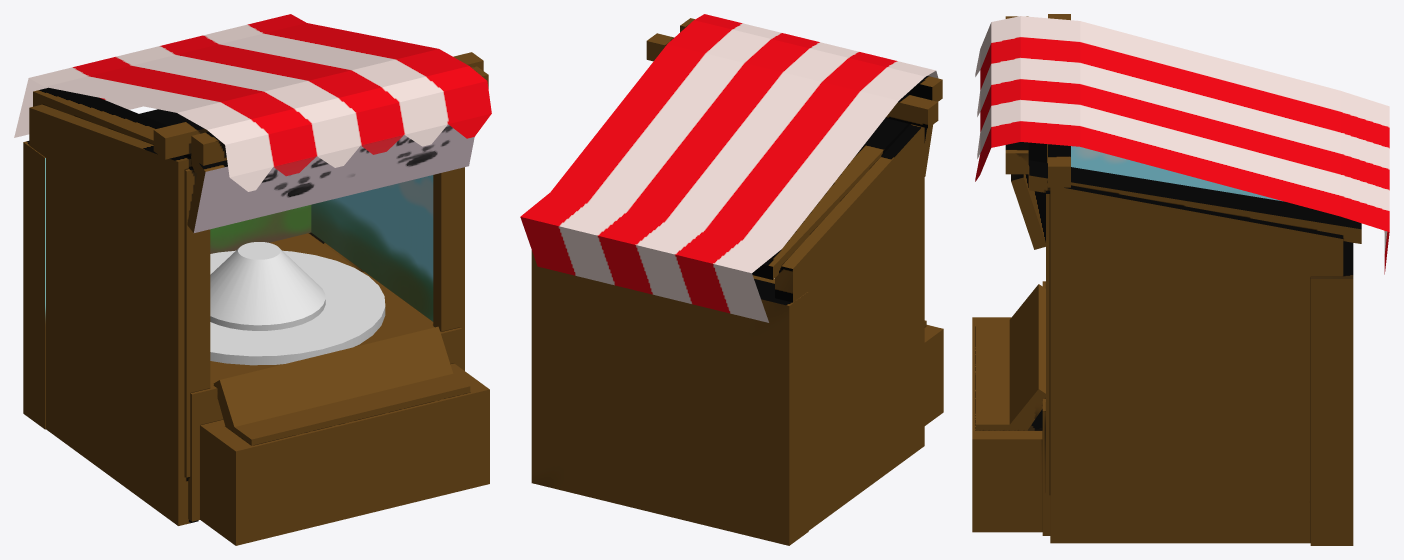
File: CatCarnivalStand.fbx
3 renders of one model, left to right at view 1: azimuth 30°, elevation 25°; view 2: azimuth 150°, elevation 25°; view 3: azimuth 270°, elevation 25°, orthographic. The views are drawn at different scales.
Parts seen in each view (by area): view 1: Cube, Wheel; view 2: Cube; view 3: Cube.
Boxes of the visible parts, x1,y1,x2,y2 form: Cube: (14,14,491,545); Wheel: (210,242,385,365); Cube: (520,14,943,545); Cube: (972,14,1389,545).
Size of the model in its own units: 291 by 352 by 336.
1 material, 1 textured.
